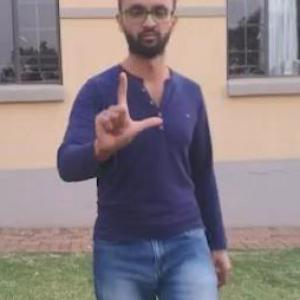land_hand: (86, 64, 167, 159)
